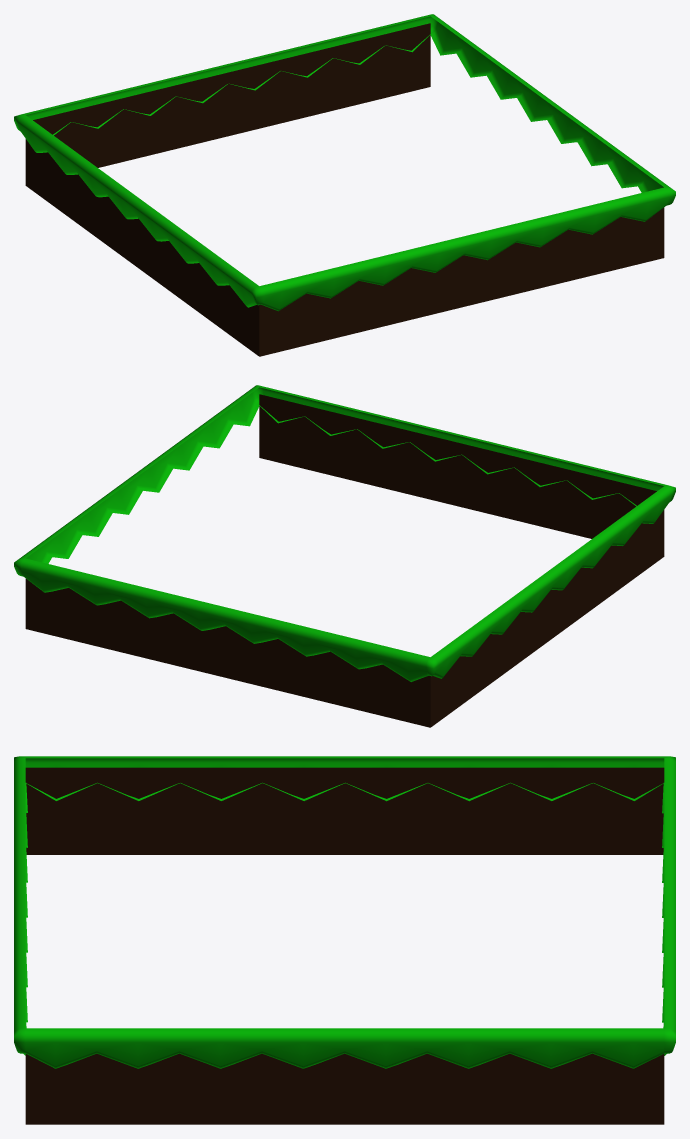
File: Boarder.FBX
The picture shows the model from 3 angles, top to bottom: view 1: azimuth 30°, elevation 25°; view 2: azimuth 150°, elevation 25°; view 3: azimuth 270°, elevation 25°; orthographic projection. The views are drawn at different scales.
Parts seen in each view (by area): view 1: Boarder Front, Boarder Back, Boarder Left, Boarder Right; view 2: Boarder Back, Boarder Front, Boarder Left, Boarder Right; view 3: Boarder Left, Boarder Right, Boarder Front, Boarder Back.
Part boxes in pixels (<box>): Boarder Front: <box>259,187,668,356</box>; Boarder Back: <box>24,15,430,167</box>; Boarder Left: <box>18,115,259,356</box>; Boarder Right: <box>430,15,670,192</box>; Boarder Back: <box>21,558,430,727</box>; Boarder Front: <box>259,386,665,538</box>; Boarder Left: <box>430,486,671,727</box>; Boarder Right: <box>19,386,259,563</box>; Boarder Left: <box>25,756,664,854</box>; Boarder Right: <box>25,1028,664,1124</box>; Boarder Front: <box>14,758,27,1055</box>; Boarder Back: <box>662,758,675,1055</box>.
Size of the model in its own units: 1244 by 200 by 1244.
